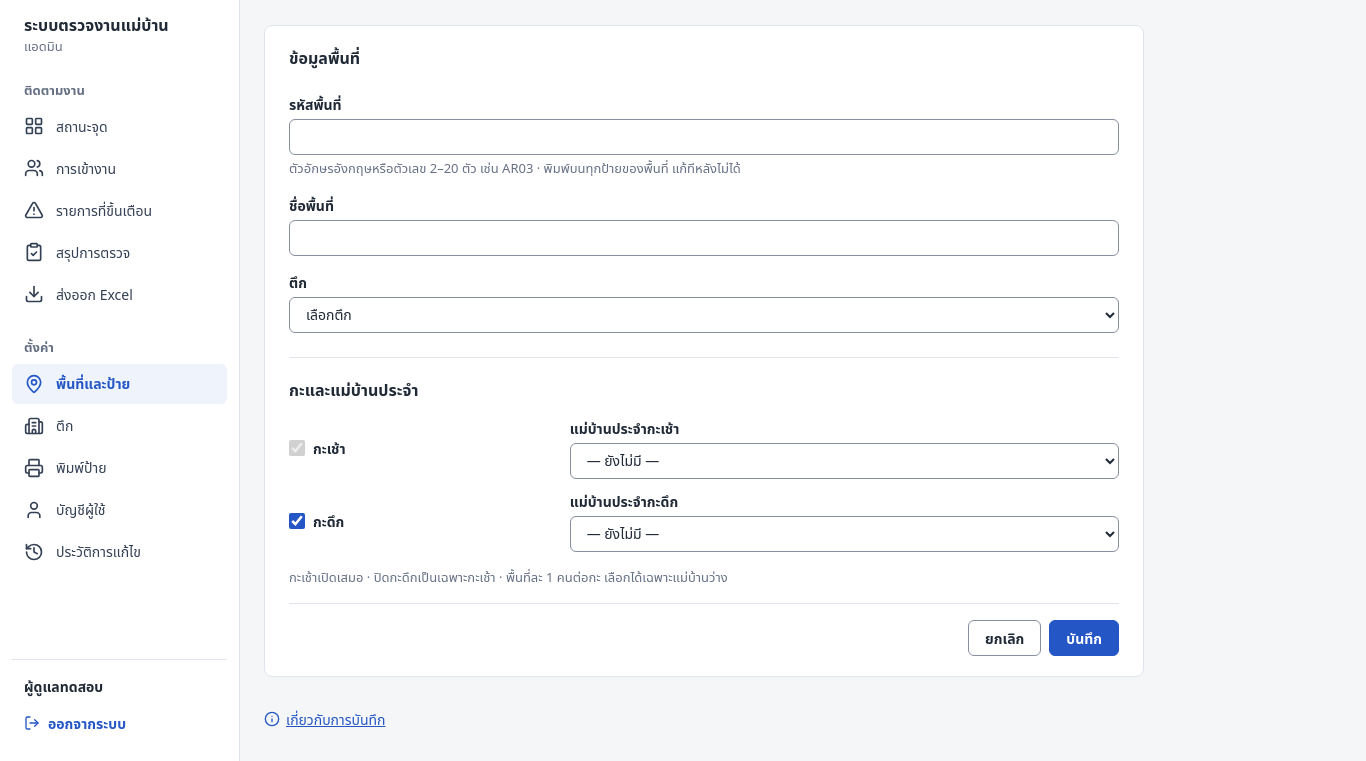
AreaFormPage (D10, facility-0045) › says what is missing before sending anything
(page scrolled)
Click the button "บันทึก" at [1084, 638], box left=1049, top=620, right=1119, bottom=656
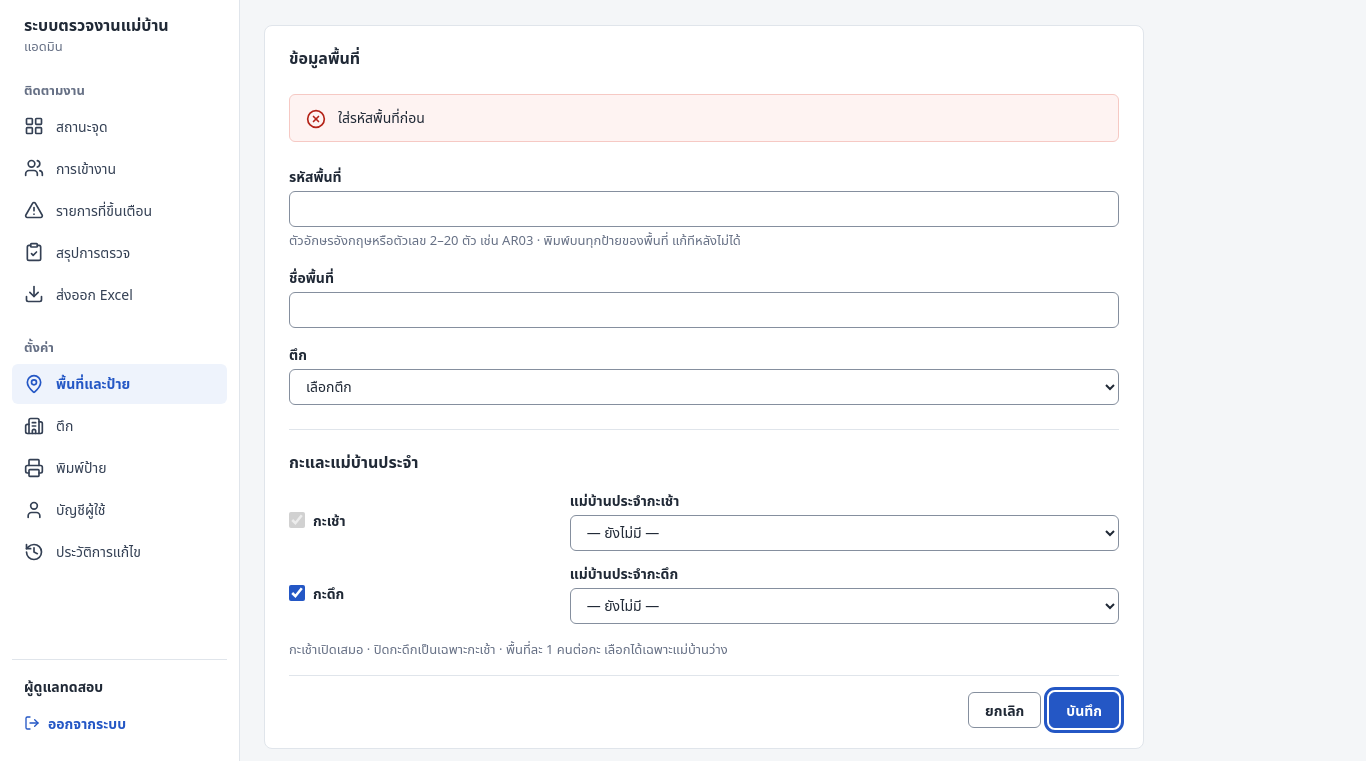
Expected: the message reads "ใส่รหัสพื้นที่ก่อน", left=338, top=108, right=425, bottom=127
Type "AR03" into the field labelled "รหัสพื้นที่" at [704, 209], box left=289, top=191, right=1119, bottom=227
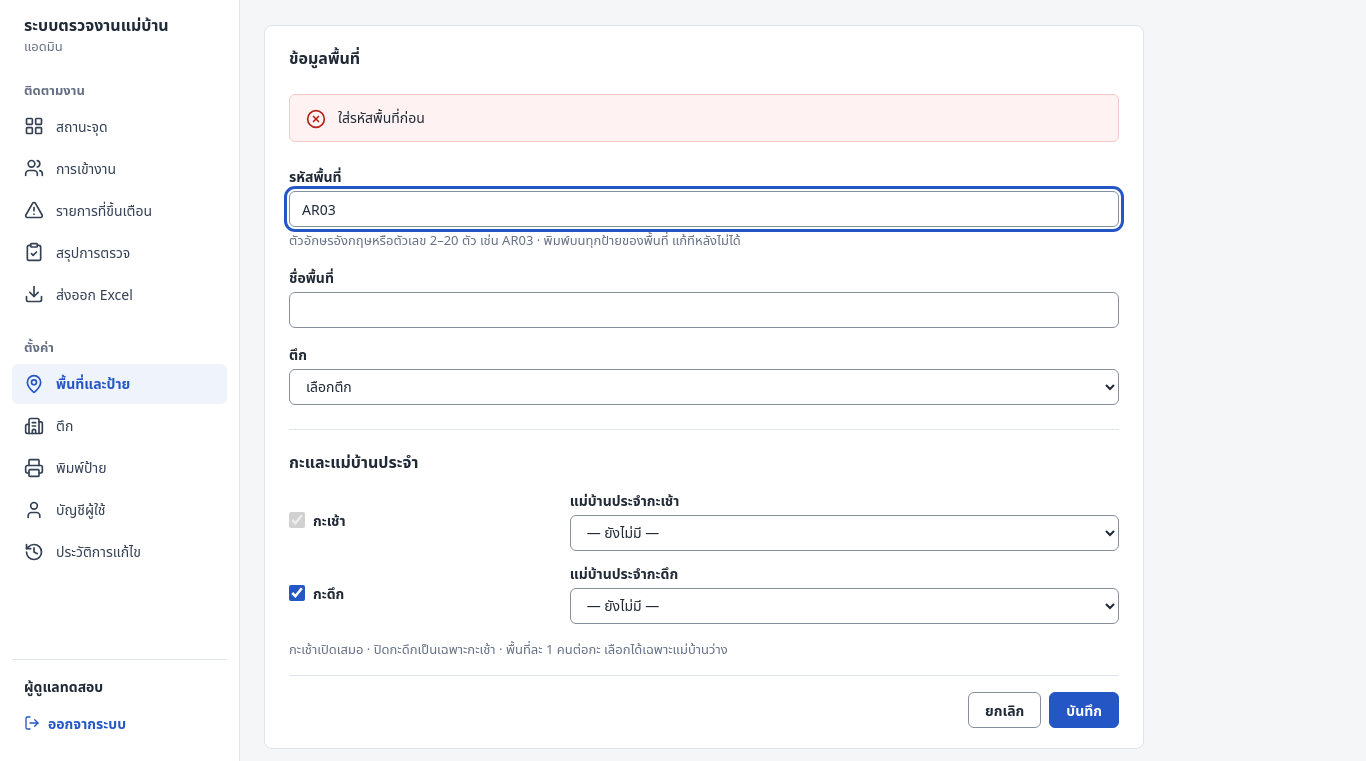
Click the button "บันทึก" at [1084, 710], box left=1049, top=692, right=1119, bottom=728
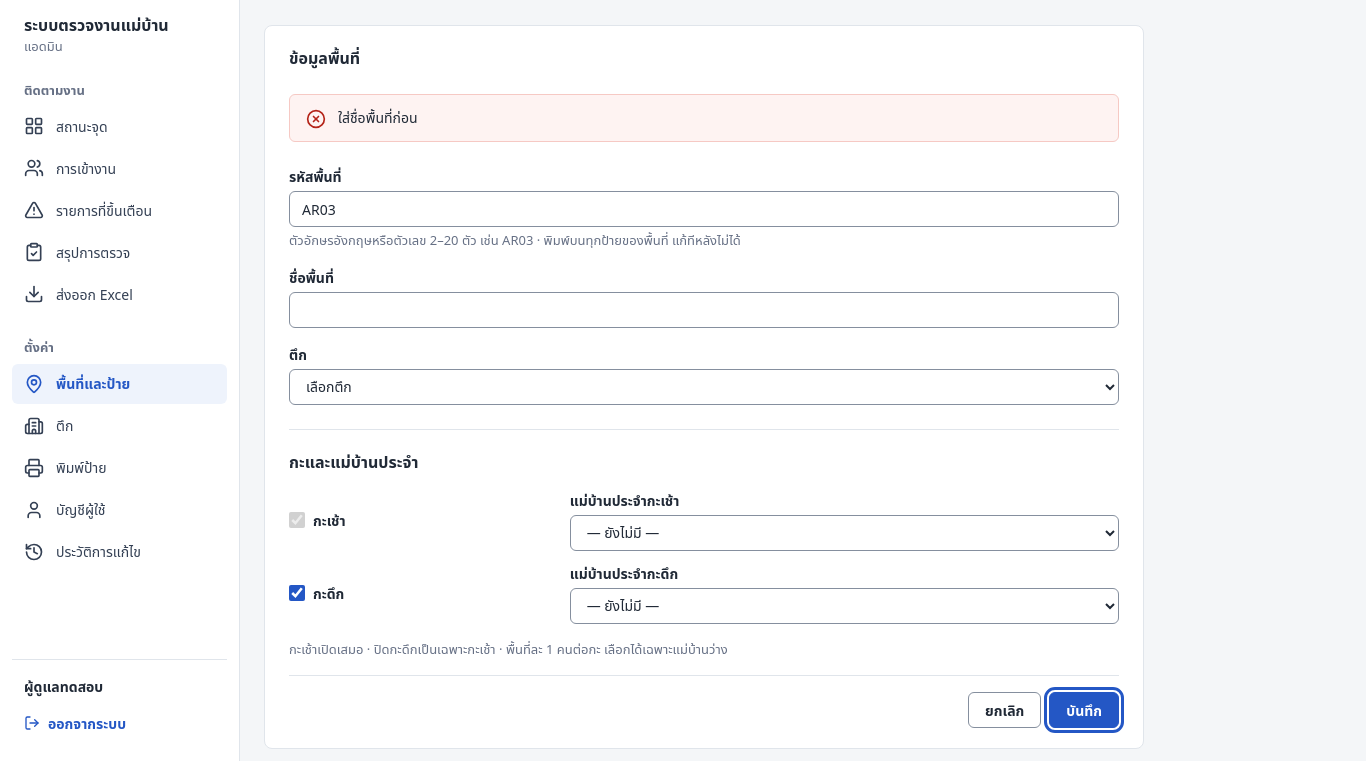
Expected: the message reads "ใส่ชื่อพื้นที่ก่อน", left=338, top=108, right=418, bottom=127
Type "Area ใหม่" into the field labelled "ชื่อพื้นที่" at [704, 310], box left=289, top=292, right=1119, bottom=328
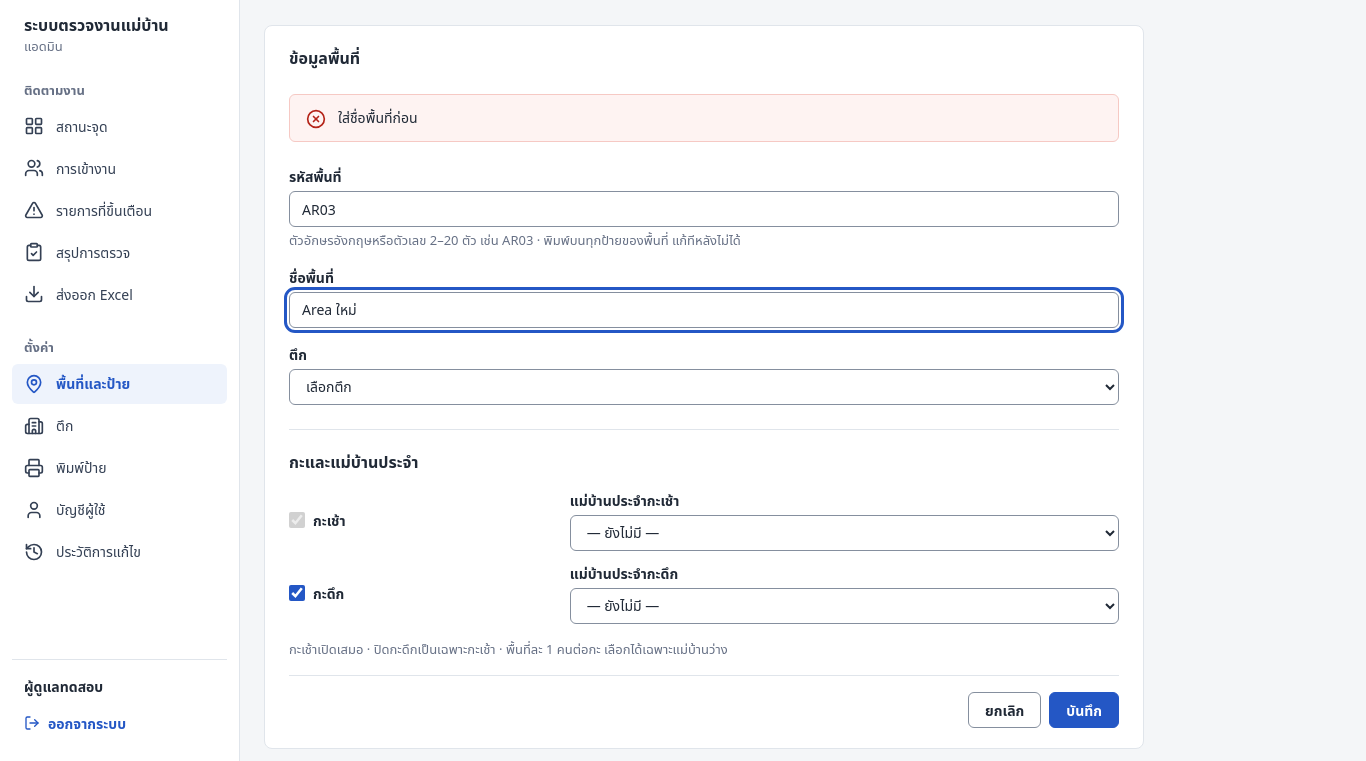
Click the button "บันทึก" at [1084, 710], box left=1049, top=692, right=1119, bottom=728
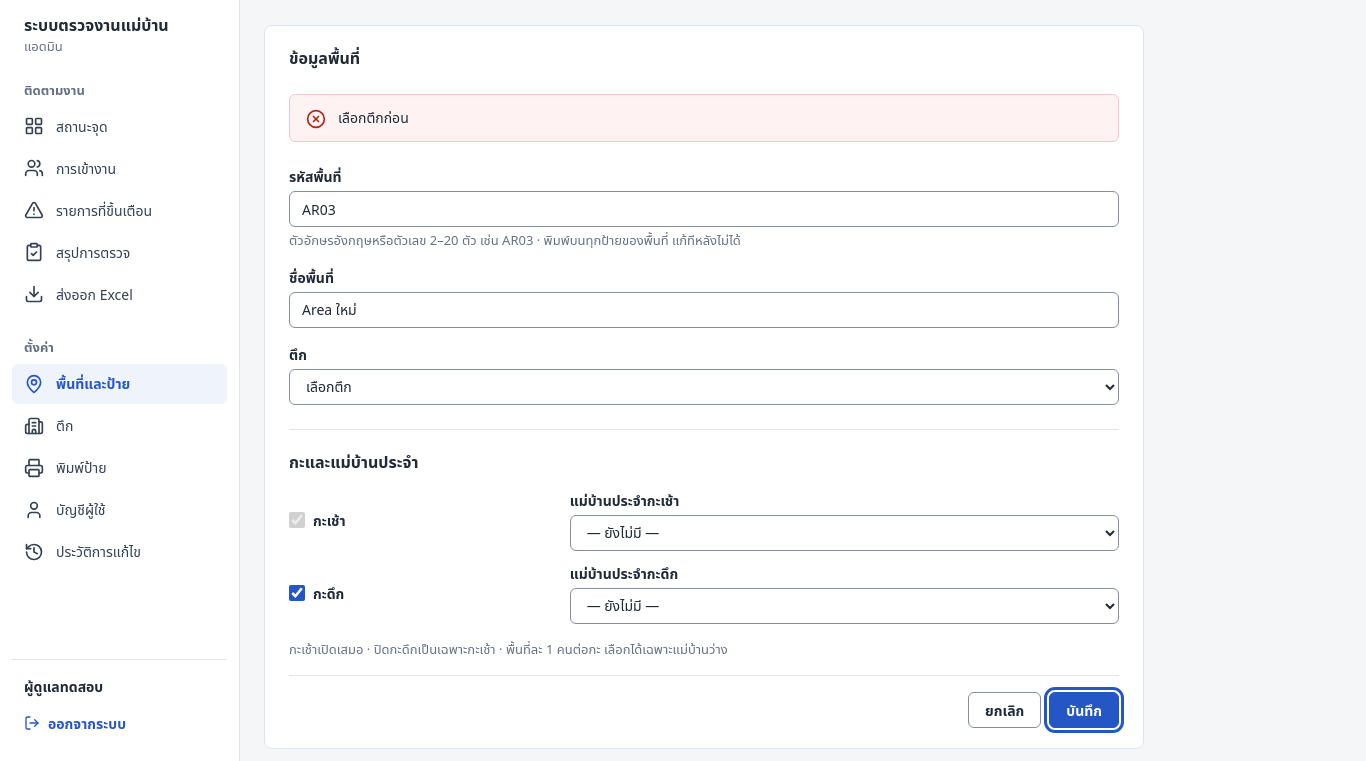
Expected: the message reads "เลือกตึกก่อน", left=338, top=108, right=409, bottom=127
